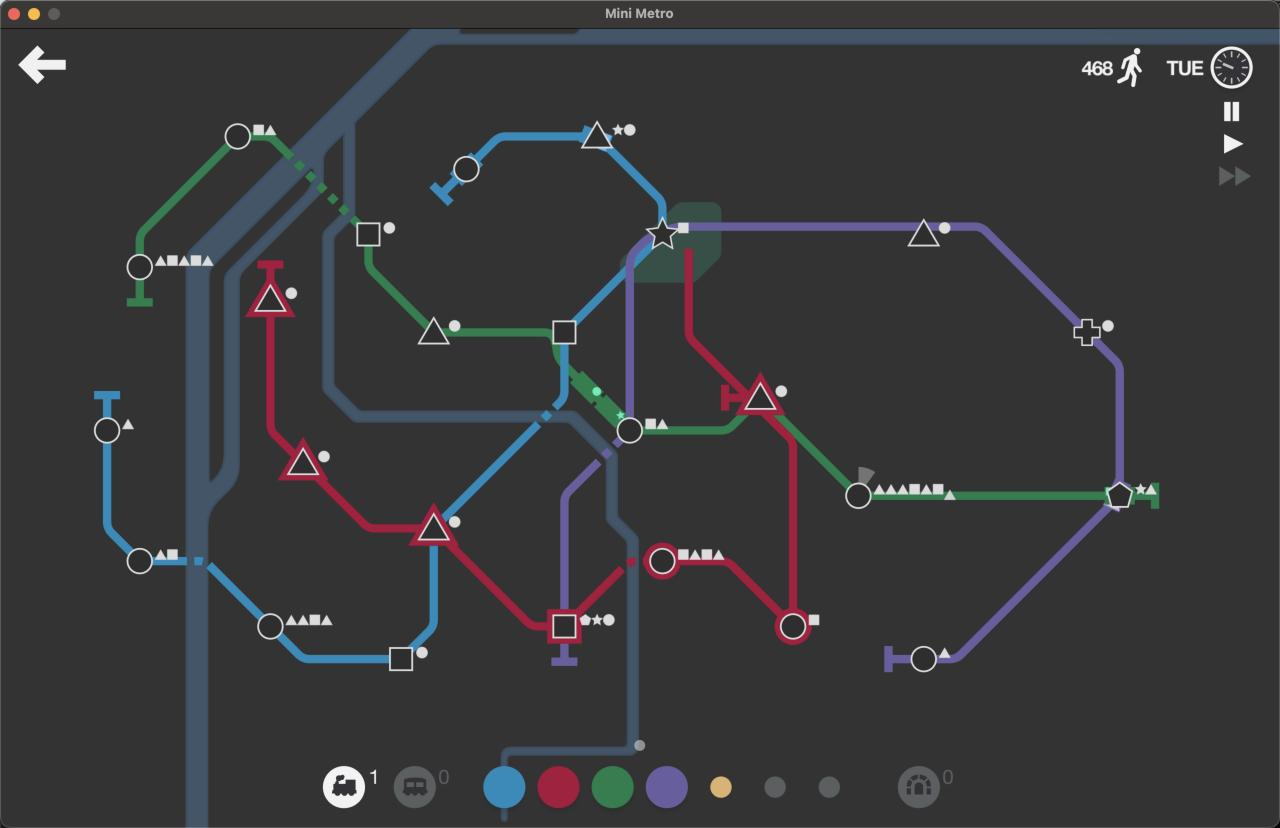CIRCLE: (645, 543, 679, 579), (778, 611, 808, 642), (844, 481, 872, 510), (257, 612, 285, 640), (93, 416, 121, 444), (616, 417, 644, 445), (453, 154, 480, 183), (910, 645, 937, 673), (126, 547, 153, 575), (224, 122, 251, 150), (126, 253, 153, 281)
CROSS: (1073, 318, 1103, 346)
PENTAGON: (1104, 481, 1134, 510)
SQUARE: (550, 611, 580, 641), (355, 221, 381, 248), (551, 319, 577, 345), (389, 646, 414, 673)
STAR: (644, 218, 678, 249)
TRIANGLE: (742, 379, 779, 412), (285, 445, 321, 477), (251, 284, 288, 315), (417, 511, 451, 543), (416, 315, 451, 346), (581, 120, 614, 150), (907, 218, 940, 248)
